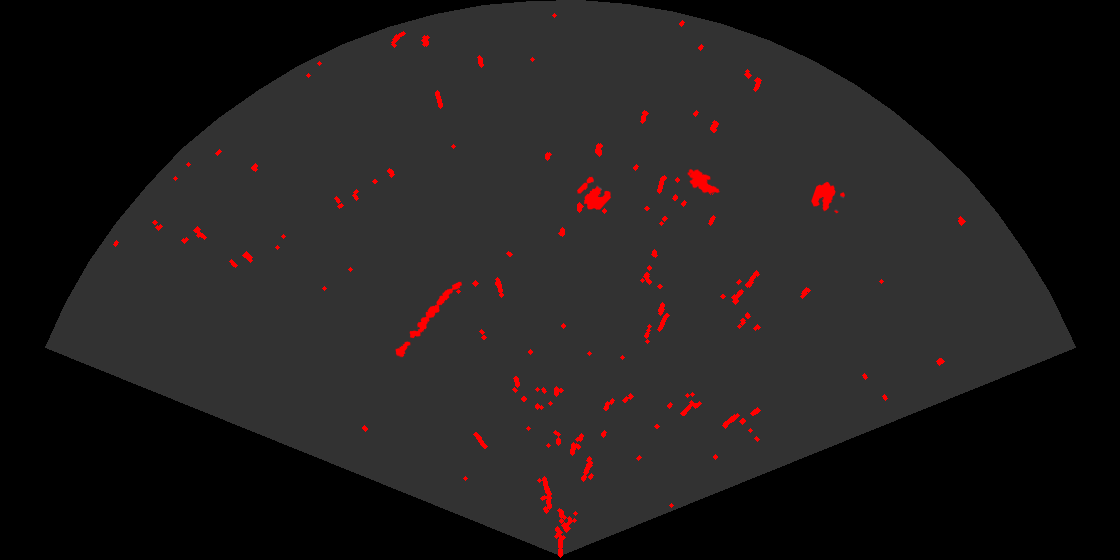AUV: (686, 167, 722, 195)
ball: (575, 175, 613, 211), (810, 180, 847, 215)
chain: (394, 280, 464, 359)
